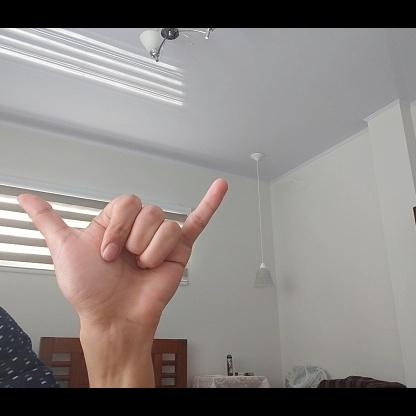Y: (17, 177, 231, 335)
